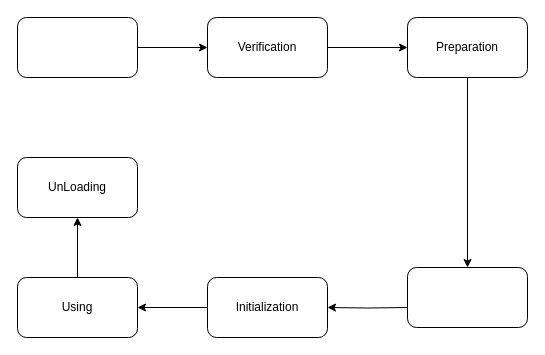
Image size: 545x355. Some labels were removed from this diagram. Here are the shapes that lost their labels. From the top down, the centre of each, then its label:
At [77,47]: "Loading".
At [467,297]: "Resolution".
